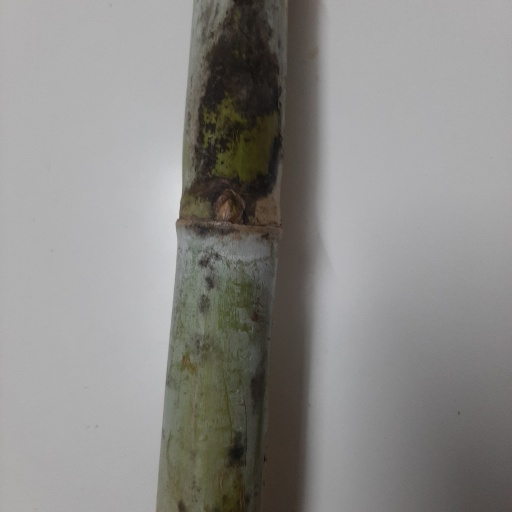Bud: (214, 194, 246, 221)
